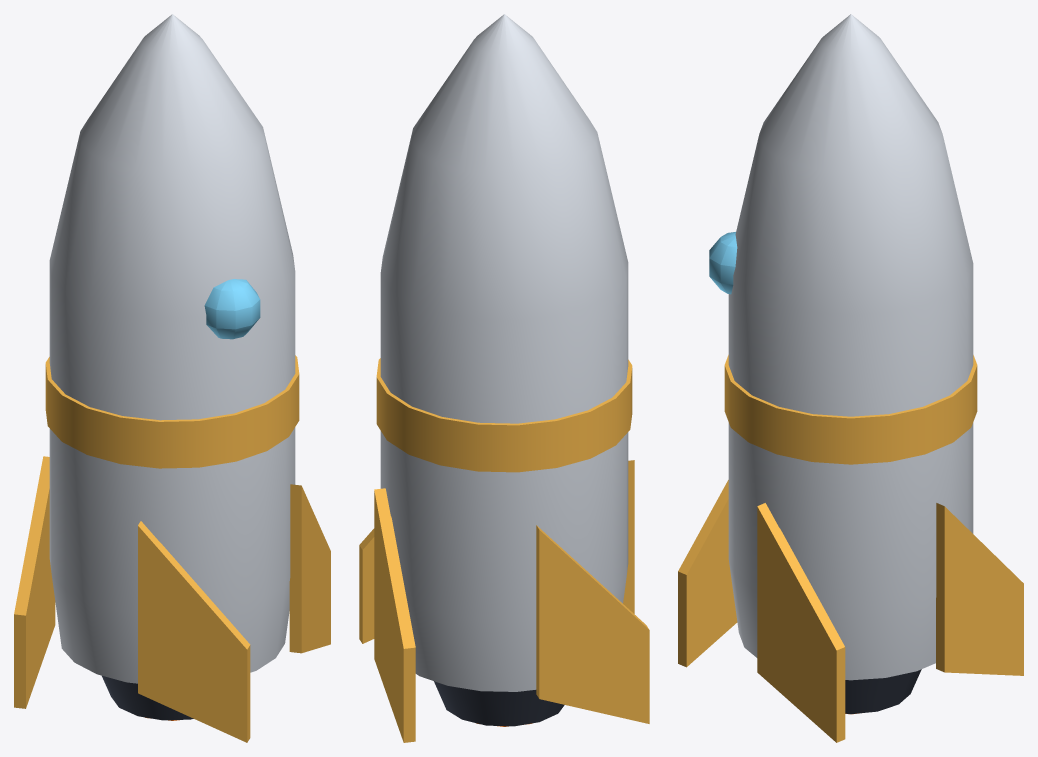
File: lieferrakete.obj
3 renders of one model, left to right at view 1: azimuth 30°, elevation 25°; view 2: azimuth 150°, elevation 25°; view 3: azimuth 270°, elevation 25°, orthographic.
Visible parts, largest first — view 1: lieferrakete_Koerper; view 2: lieferrakete_Koerper; view 3: lieferrakete_Koerper.
Part boxes in pixels (bbox=[...]): lieferrakete_Koerper: bbox=[14, 14, 330, 742]; lieferrakete_Koerper: bbox=[359, 14, 649, 742]; lieferrakete_Koerper: bbox=[678, 14, 1023, 742].
Bounding box in the file's own units: 1.7 × 3.67 × 1.7.
